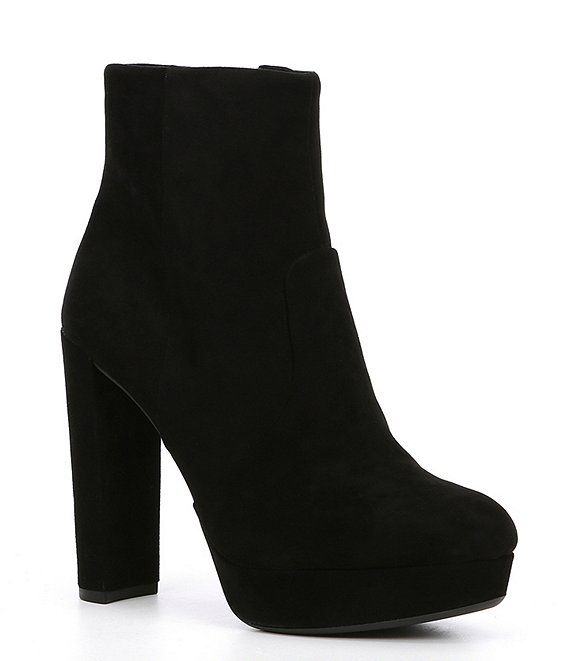gamuza: (61, 63, 518, 628)
